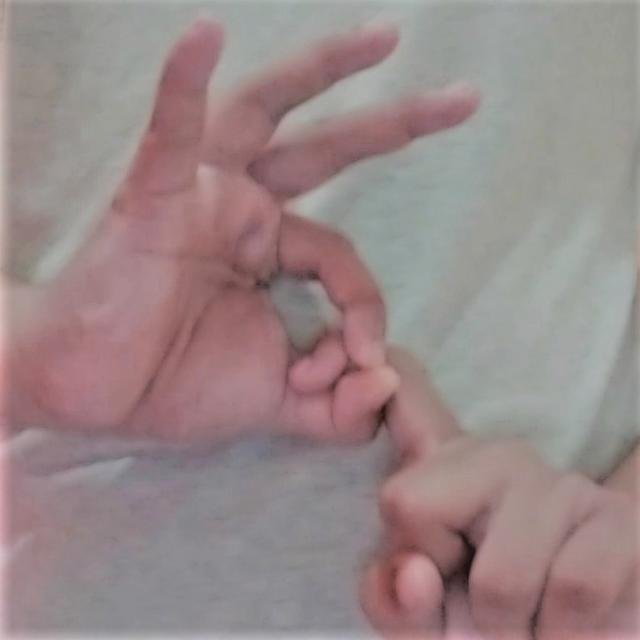Q: (38, 11, 598, 625)
